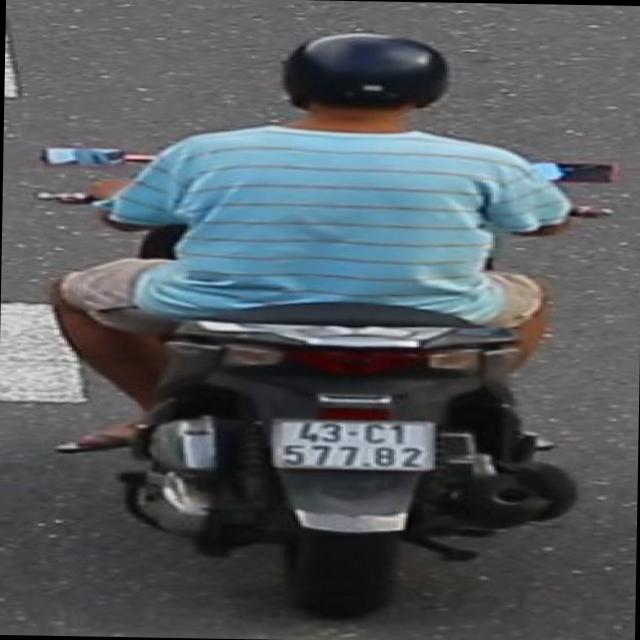LP: (264, 410, 440, 474)
helmet: (269, 27, 456, 137)
